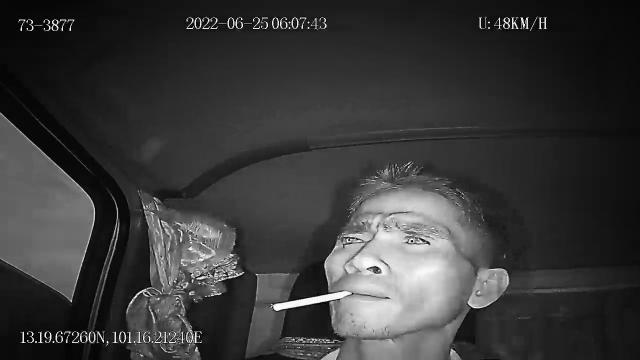SafeDriving: (392, 228, 436, 250), (333, 228, 368, 250)
Smoking: (272, 288, 354, 314)
